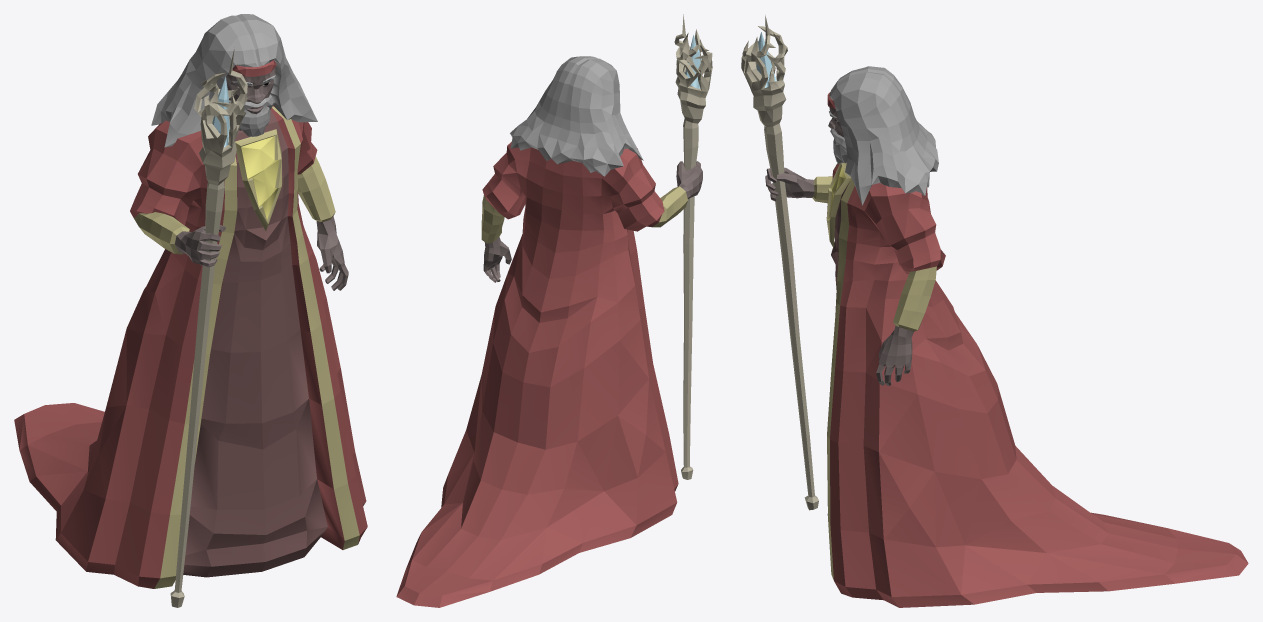
The model's file is Shazam.fbx.
3 renders of one model, left to right at view 1: azimuth 30°, elevation 25°; view 2: azimuth 150°, elevation 25°; view 3: azimuth 270°, elevation 25°, orthographic. The views are drawn at different scales.
Parts seen in each view (by area): view 1: Shazam.obj; view 2: Shazam.obj; view 3: Shazam.obj.
Part boxes in pixels (<box>): Shazam.obj: <box>14,14,367,607</box>; Shazam.obj: <box>396,14,712,607</box>; Shazam.obj: <box>741,15,1248,607</box>.
Bounding box in the file's own units: 94.07 × 192 × 170.
